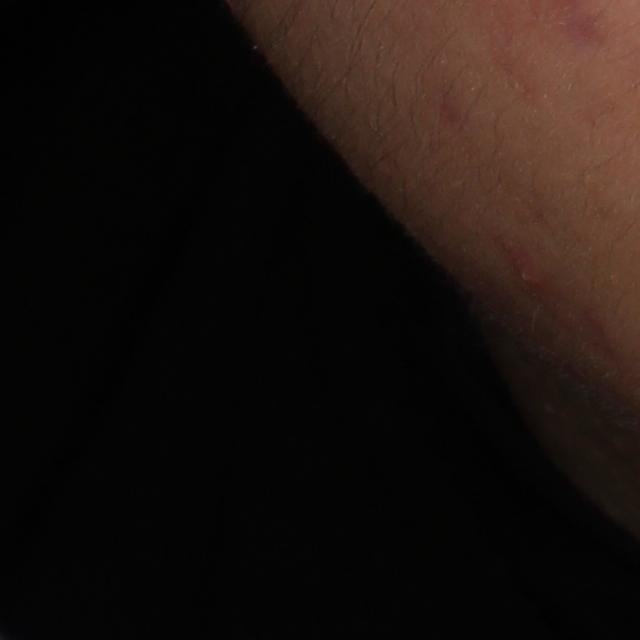papule: (505, 244, 555, 293)
